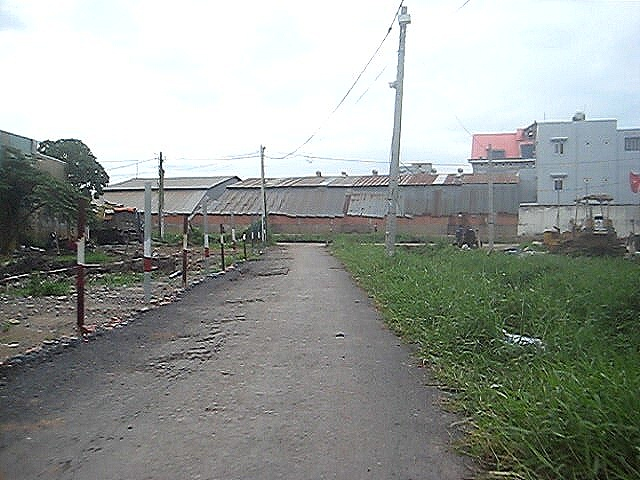hole: (148, 345, 213, 371), (245, 263, 288, 279), (225, 297, 266, 305)
